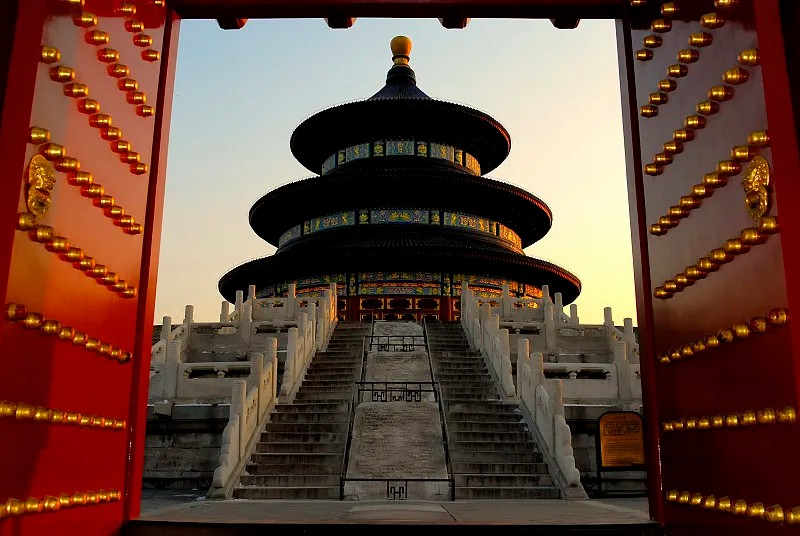Heaven: (217, 35, 583, 323)
